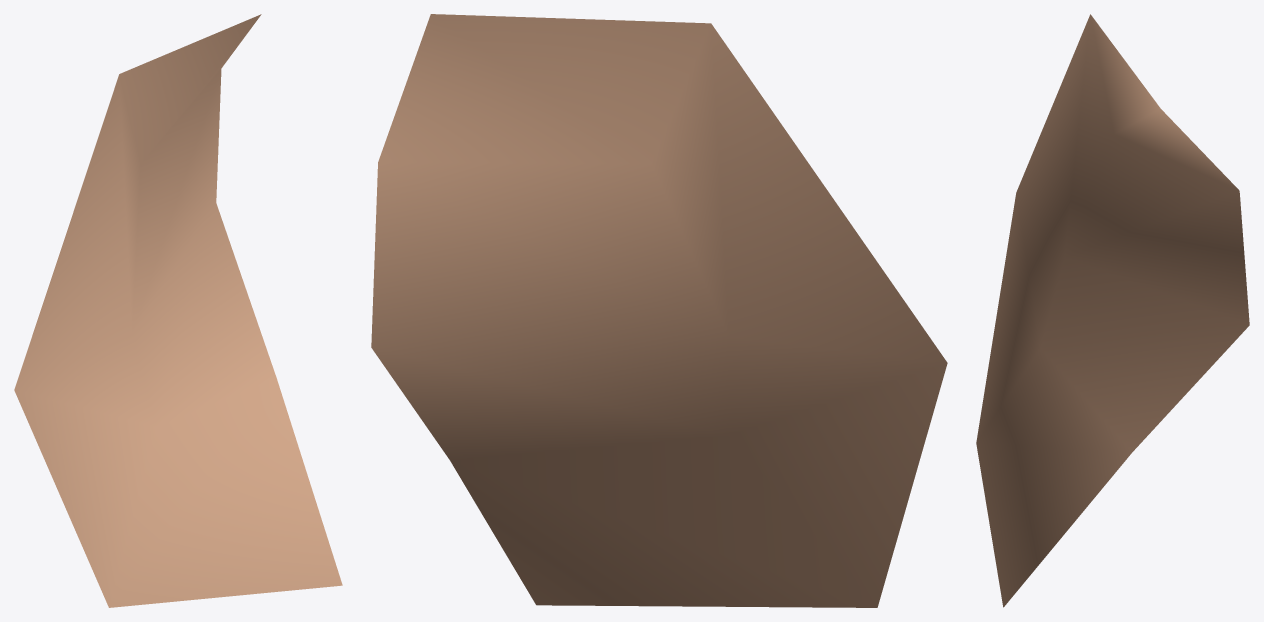
The model's file is umbilicus-r.glb.
3 renders of one model, left to right at view 1: azimuth 30°, elevation 25°; view 2: azimuth 150°, elevation 25°; view 3: azimuth 270°, elevation 25°, orthographic. The views are drawn at different scales.
Visible parts, largest first — view 1: Umbilicus.r; view 2: Umbilicus.r; view 3: Umbilicus.r.
Part boxes in pixels (x1=…): Umbilicus.r: x1=14, y1=14, x2=342, y2=607; Umbilicus.r: x1=371, y1=14, x2=947, y2=607; Umbilicus.r: x1=976, y1=14, x2=1249, y2=607.
Size of the model in its own units: 0.0151 by 0.0234 by 0.0114.
